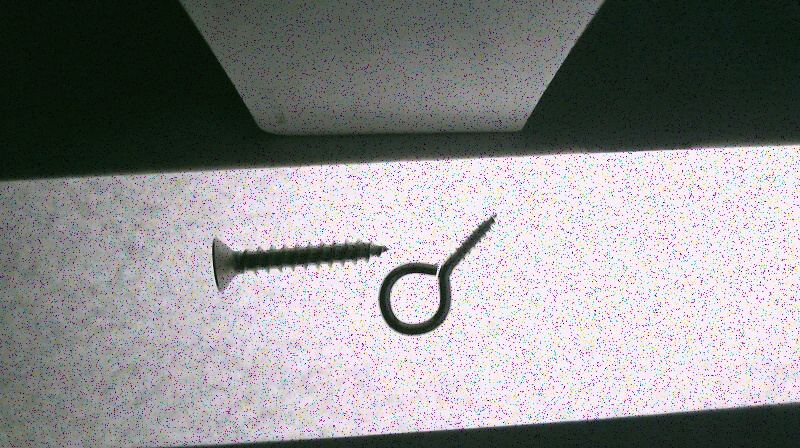O001: (378, 212, 498, 336)
S001: (210, 235, 390, 293)
